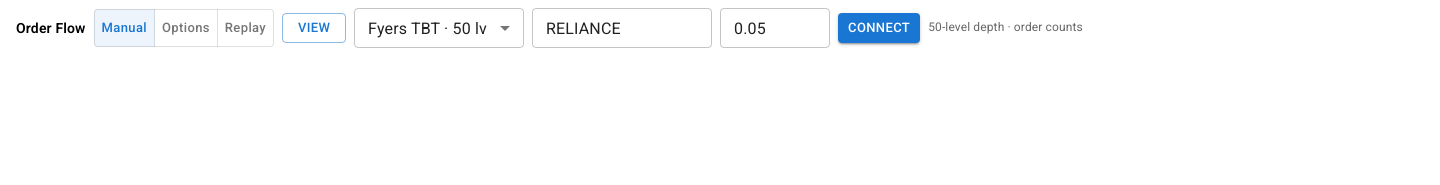
Test: OrderFlowPage Options mode per-broker symbol › resolver failure shows a visible error and keeps the old symbol
Click the button "Options".
click(186, 28)  # box [154,9,218,47]
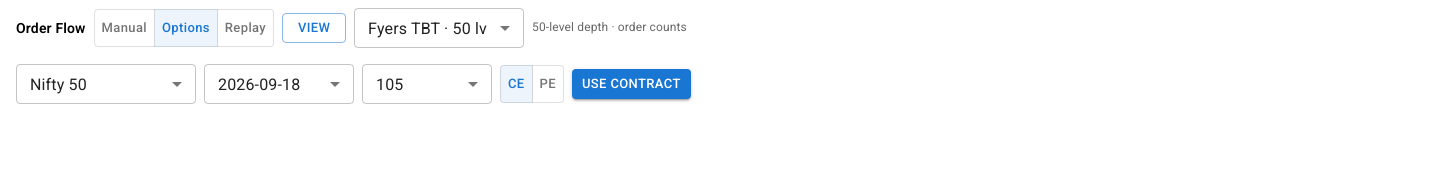
Result: the dropdown "105" is shown at [376,74,403,94]
Click the button with test id "orderflow-use-contract".
click(631, 84)  # box [572,69,691,99]
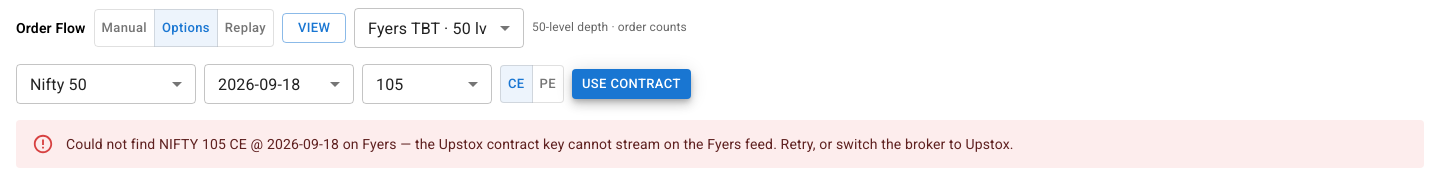
Result: the message with test id "orderflow-options-error" shows "Could not find NIFTY 105 CE @ 2026-09-18 on Fyers" at [66,136,1014,152]
Result: the message with test id "orderflow-options-error" shows "switch the broker to Upstox" at [66,136,1014,152]
